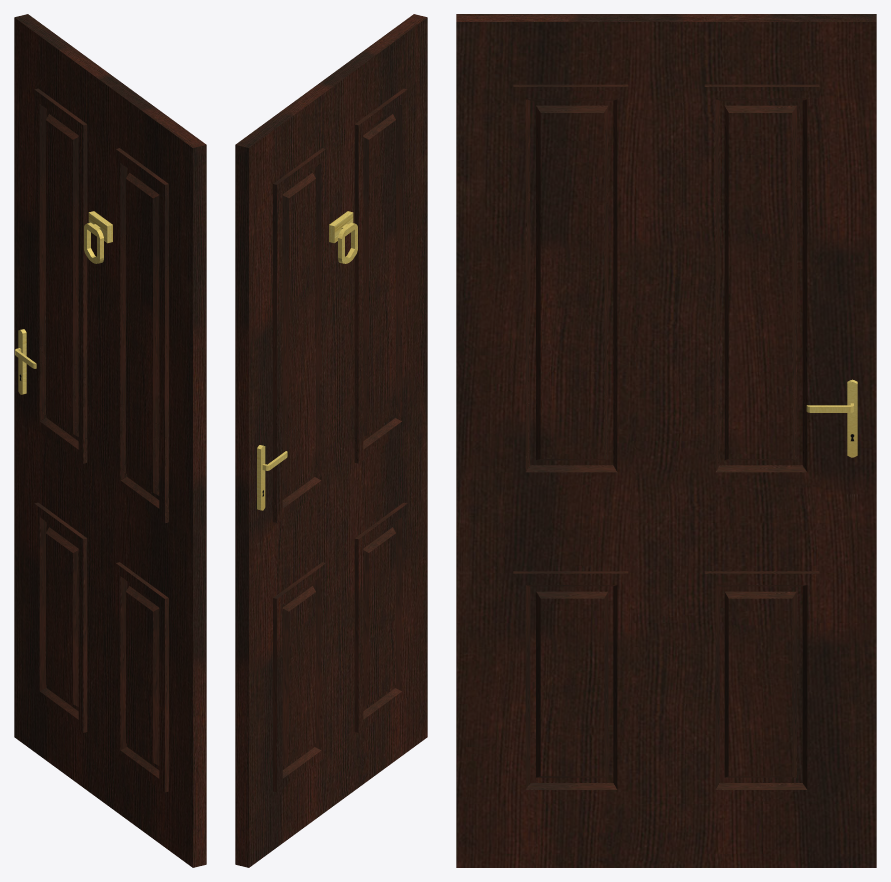
Rendered from Door.FBX.
3 renders of one model, left to right at view 1: azimuth 30°, elevation 25°; view 2: azimuth 150°, elevation 25°; view 3: azimuth 270°, elevation 25°, orthographic. The views are drawn at different scales.
Parts seen in each view (by area): view 1: Door_Ext; view 2: Door_Ext; view 3: Door_Ext.
Part boxes in pixels (bbox=[...]): Door_Ext: bbox=[14, 14, 206, 867]; Door_Ext: bbox=[235, 14, 427, 867]; Door_Ext: bbox=[456, 14, 876, 867].
Bounding box in the file's own units: 10.26 × 200 × 90.
Materials: 1 (1 with a texture image).
